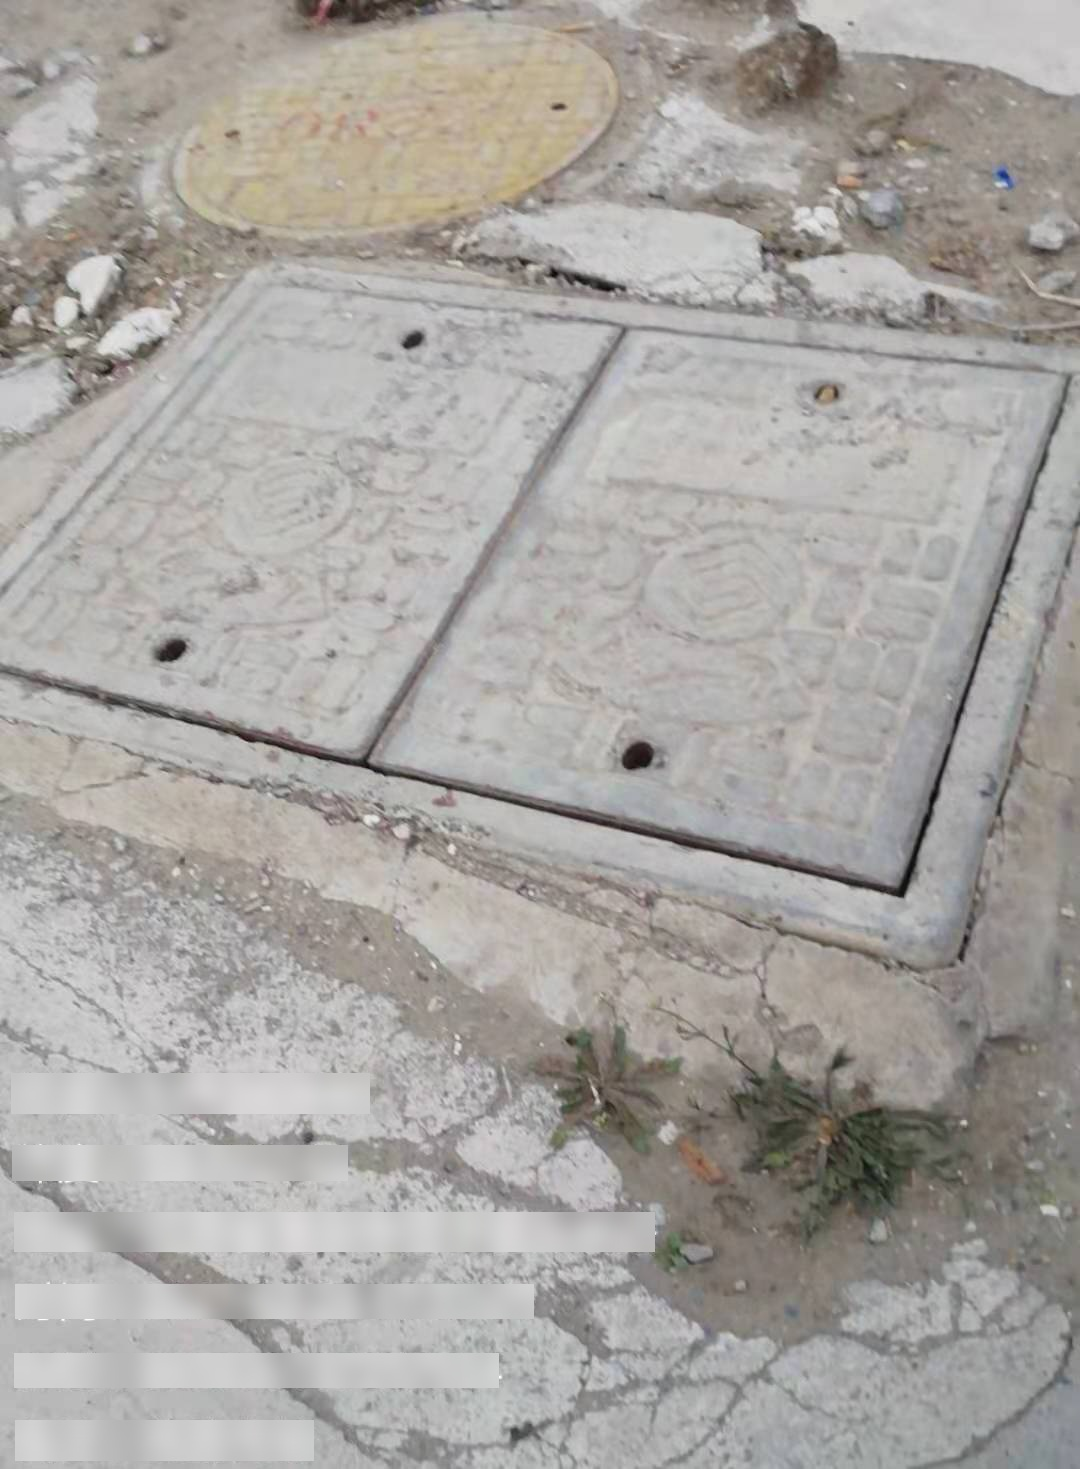good: (1, 258, 1080, 966), (170, 14, 622, 240)
